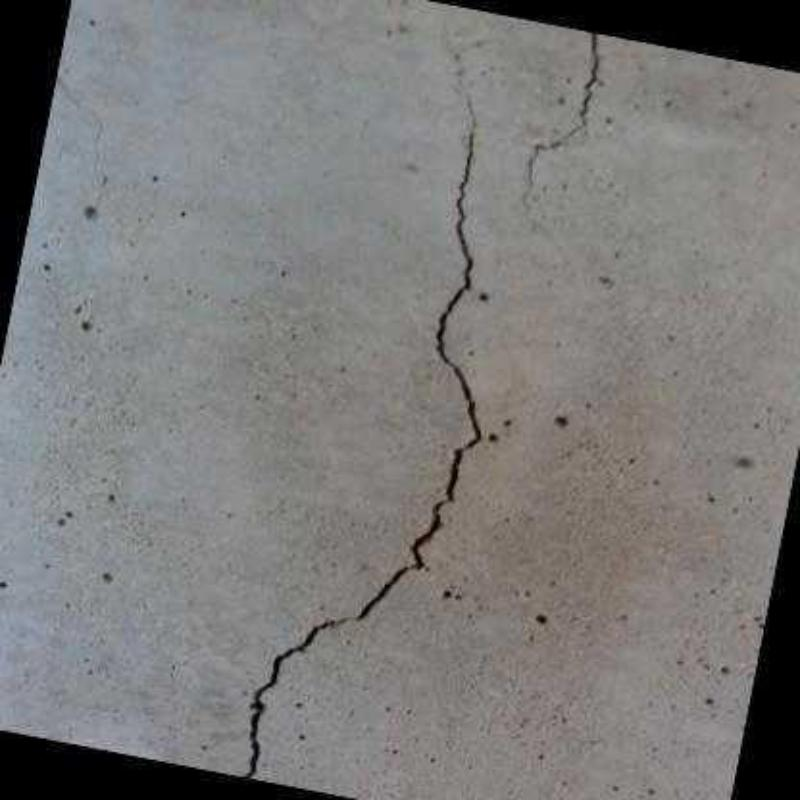pothole: (241, 132, 481, 780), (523, 33, 599, 206), (58, 79, 102, 183), (452, 69, 475, 133)
